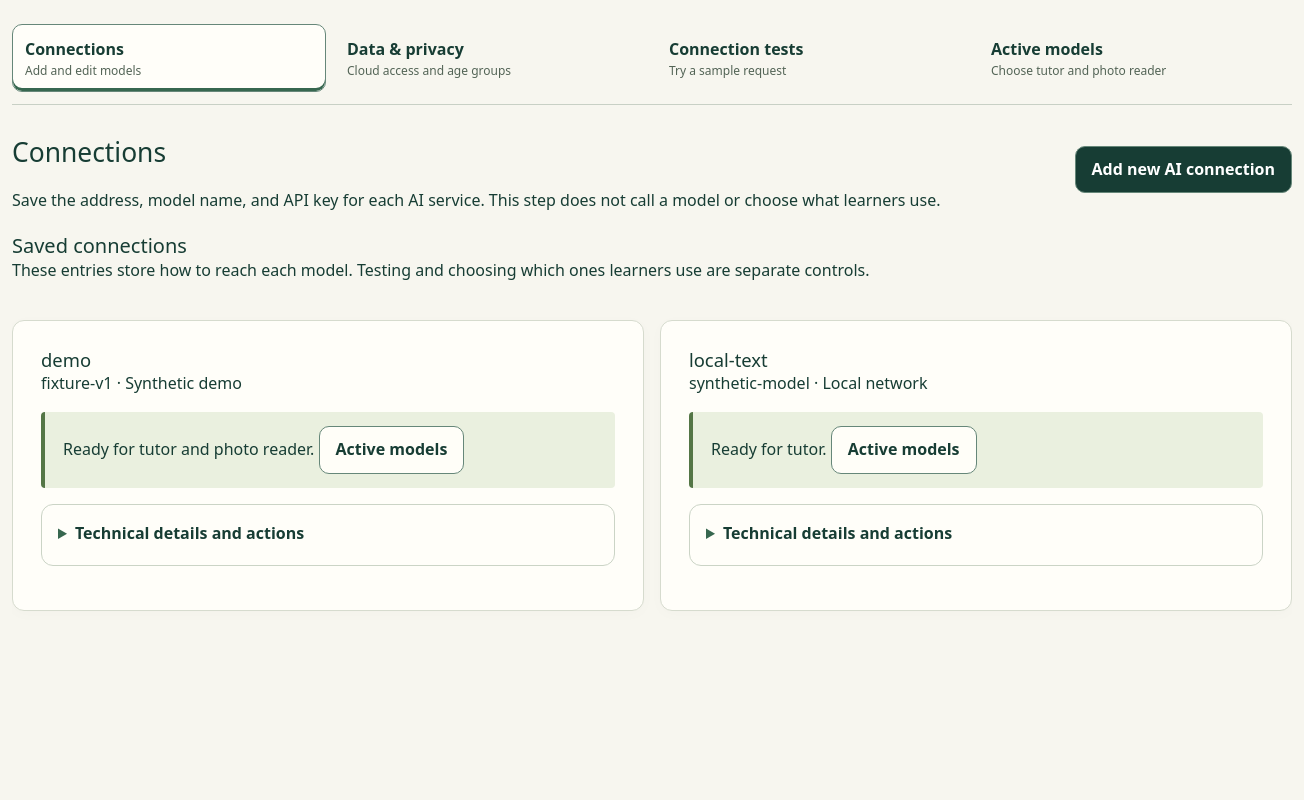
AI settings page › separates the four setup purposes into keyboard-navigable tabs
Expected: the heading "Connections" is shown, left=12, top=134, right=166, bottom=170
Click the tab "Data & privacy Cloud access and age groups" at (405, 49), box left=334, top=24, right=648, bottom=92
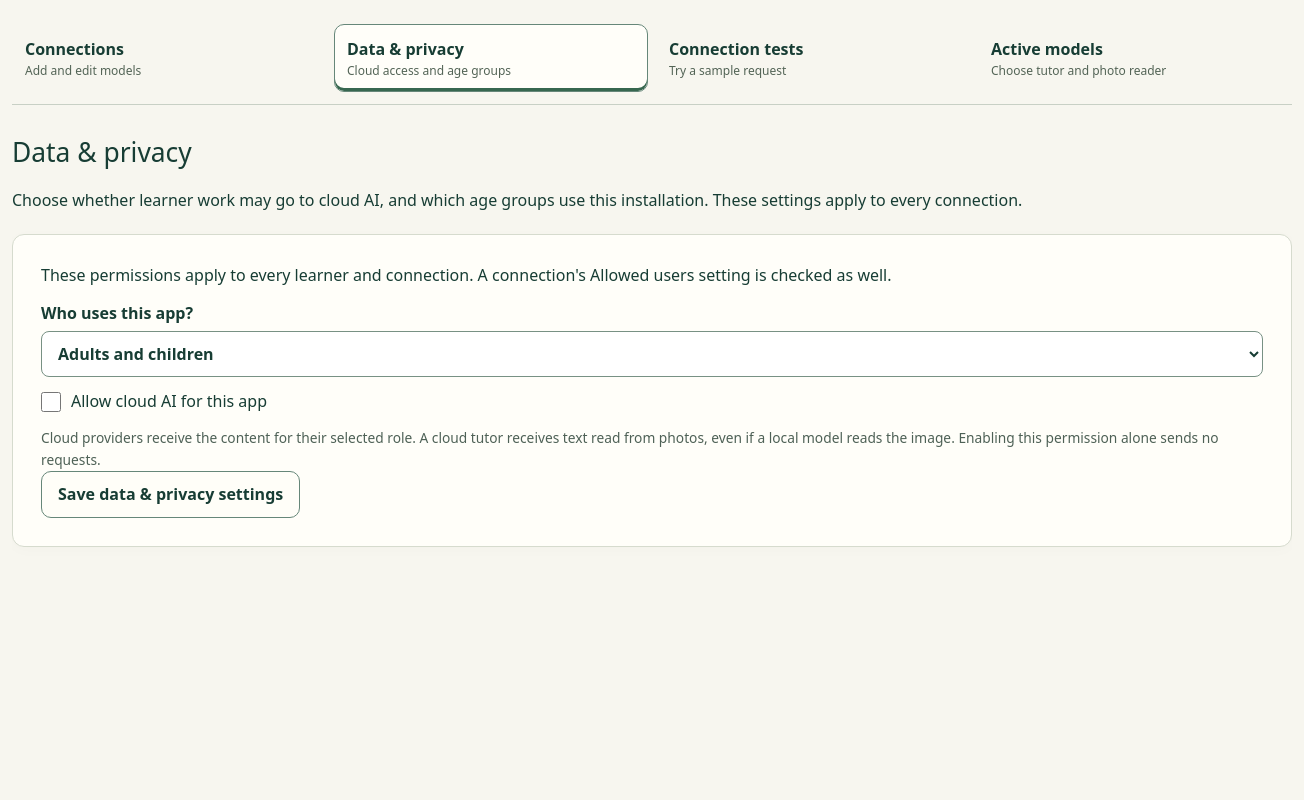
Expected: the heading "Data & privacy" is shown, left=12, top=134, right=192, bottom=170
Expected: the button "Add new AI connection" is gone
Press ArrowRight in the tab "Data & privacy Cloud access and age groups", box left=334, top=24, right=648, bottom=92
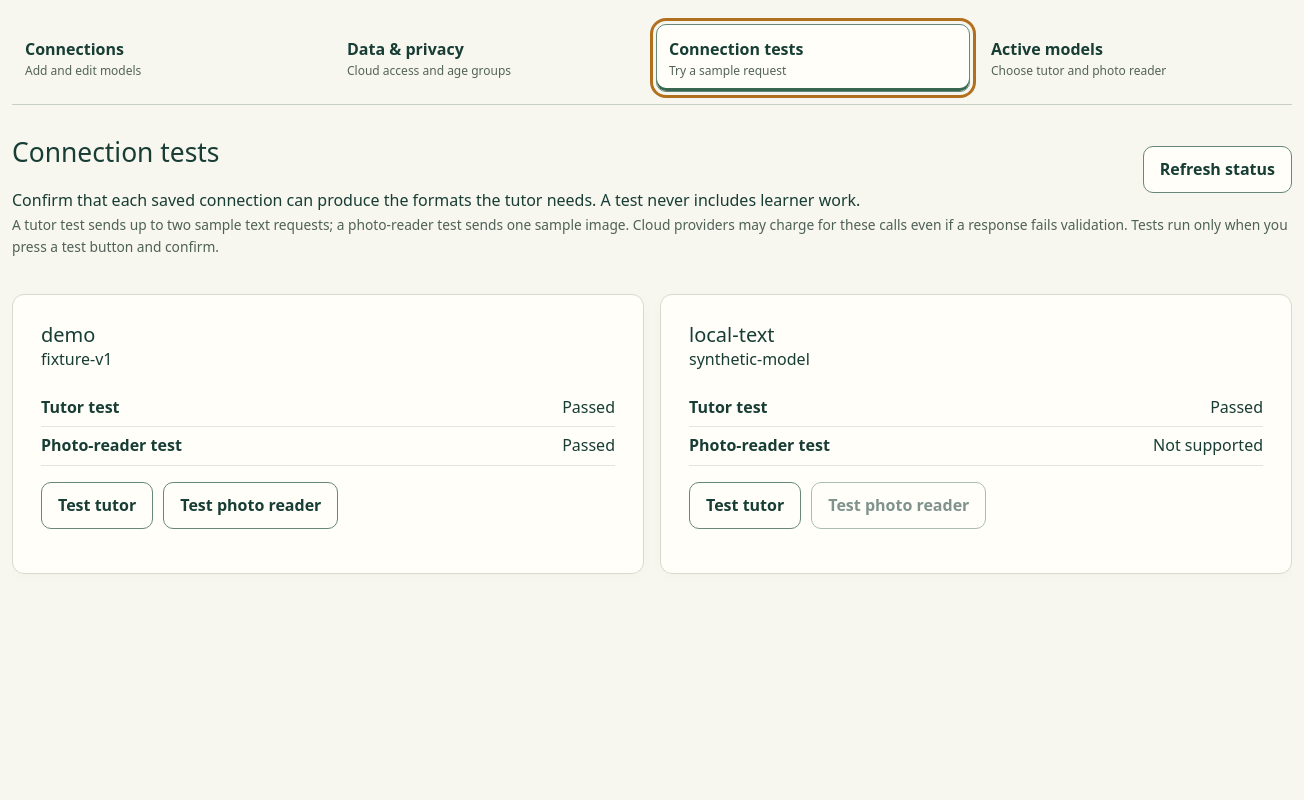
Expected: the heading "Connection tests" is shown, left=12, top=134, right=220, bottom=170
Press End in the tab "Connection tests Try a sample request", box left=656, top=24, right=970, bottom=92
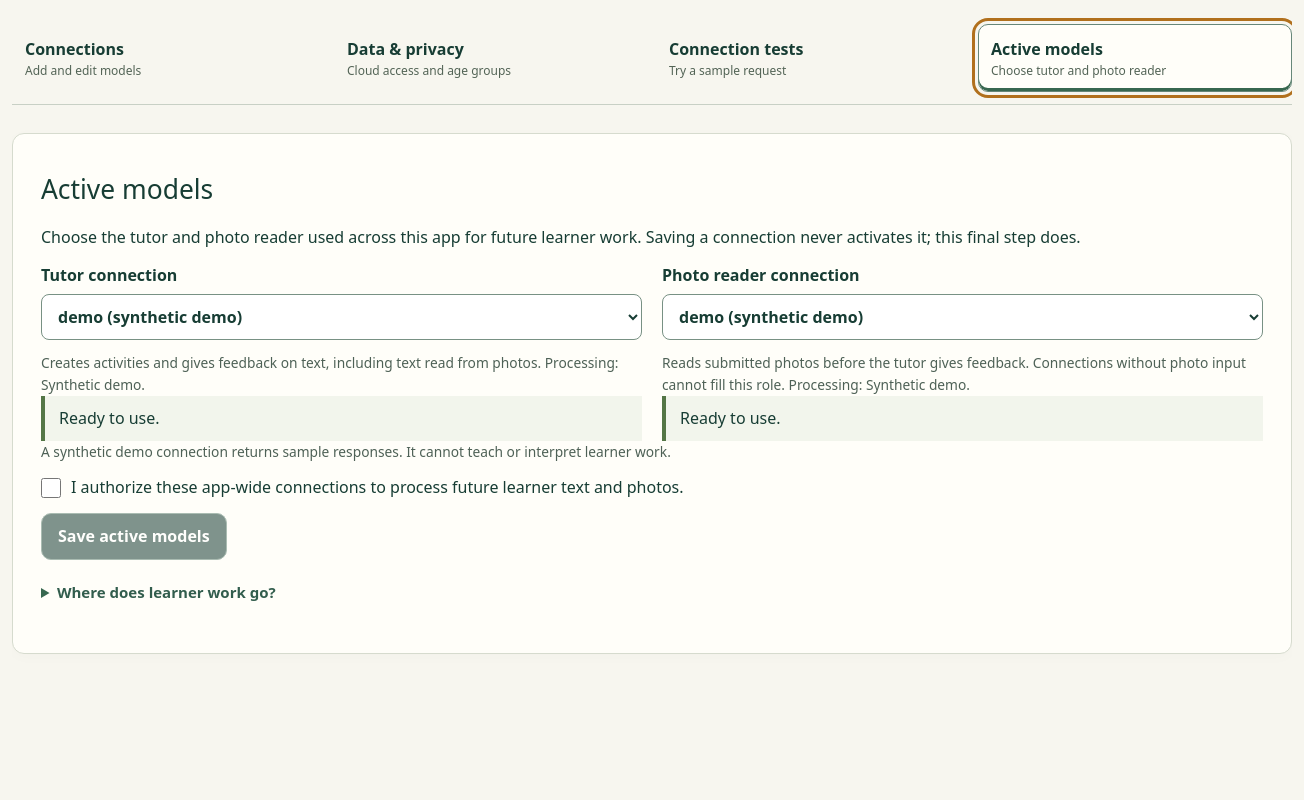
Expected: the heading "Active models" is shown, left=41, top=171, right=213, bottom=207
